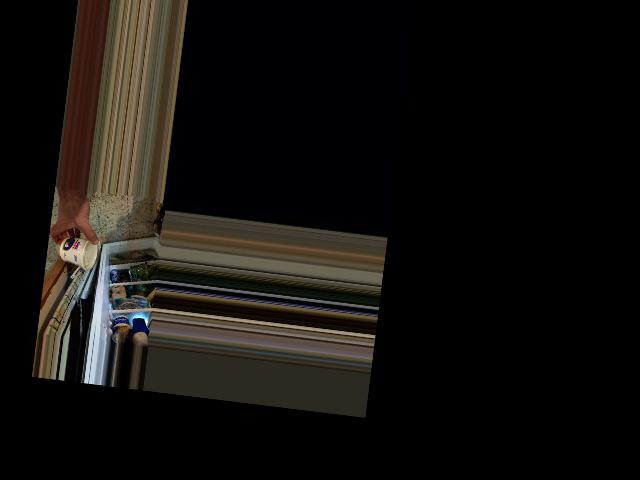cotage: (56, 230, 99, 271)
